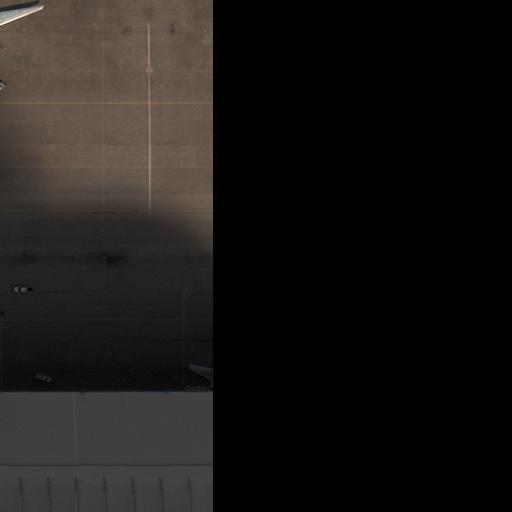Medium Civil Transport: (0, 0, 45, 69)
